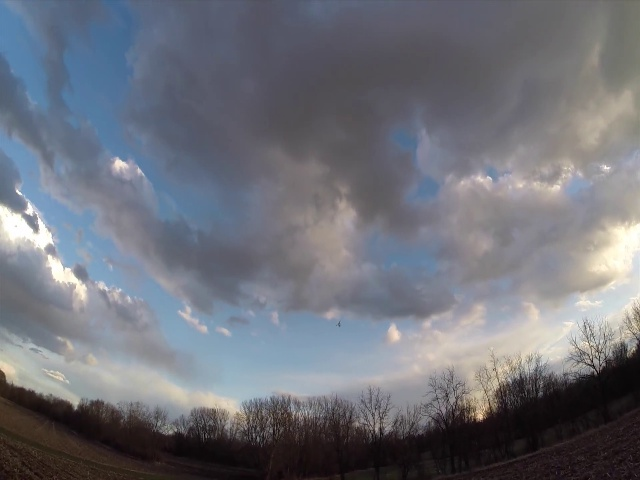drone: (334, 320, 343, 329)
